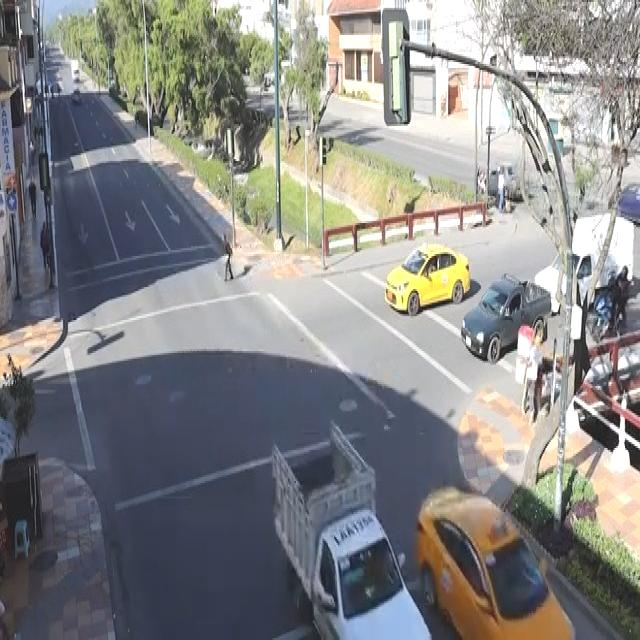CMT: (270, 435, 432, 640), (458, 277, 549, 363)
